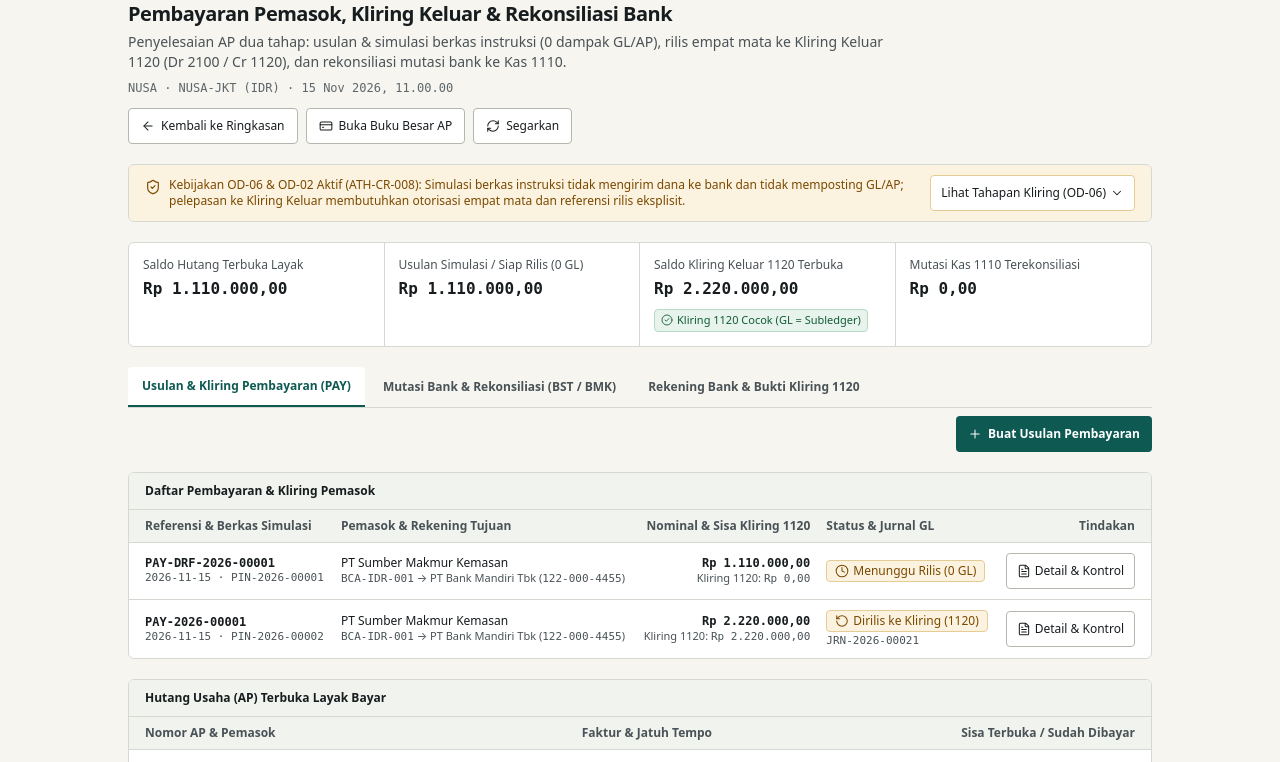
Test: S11 Payments, Outbound Clearing & Bank Reconciliation UI › renders clearing KPIs with 1120 reconciled proof and enforces OD-02 self-release SoD notice
Expected: the heading reads "Pembayaran Pemasok, Kliring Keluar & Rekonsiliasi Bank", [128,0,672,27]
Expected: the text "Kliring 1120 Cocok (GL = Subledger)" is shown, [677,312,861,328]
// Expand OD-06 stages drawer
Click the button "Lihat Tahapan Kliring (OD-06)": (1033, 193) [930,175,1135,211]
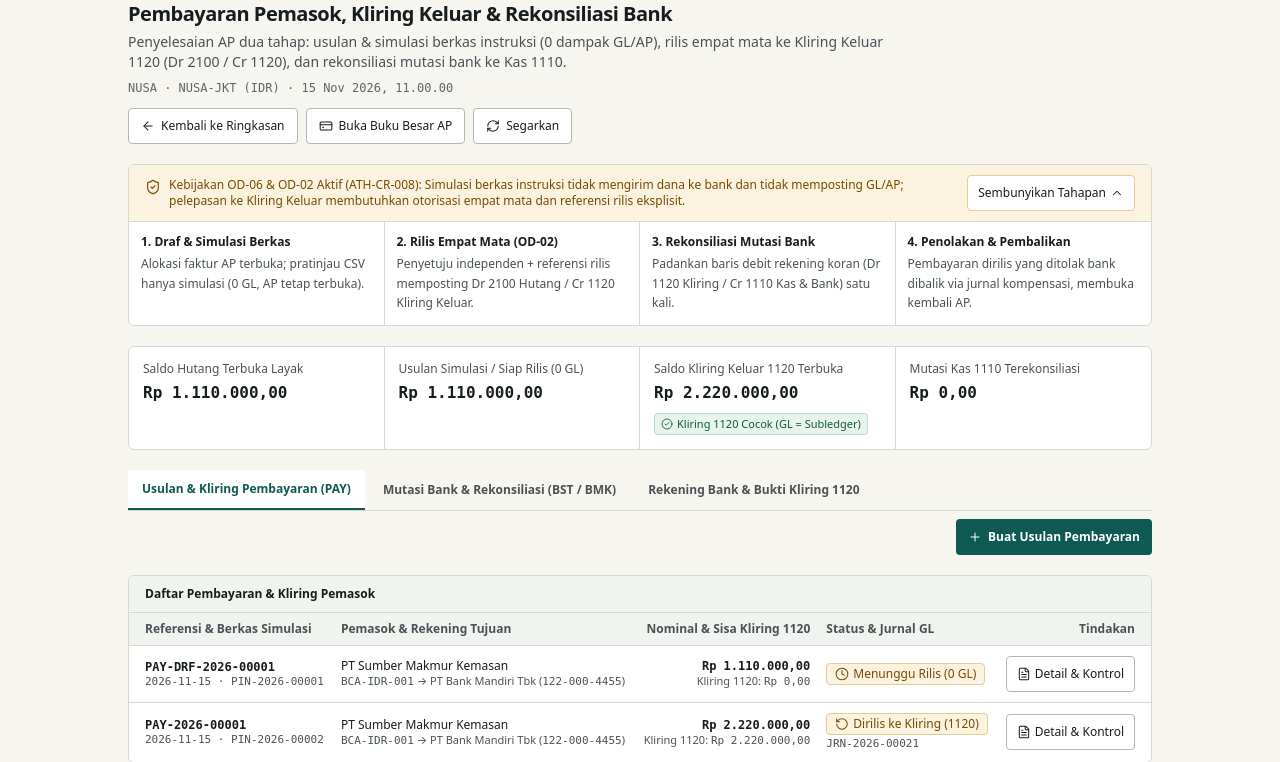
Result: the text "1. Draf & Simulasi Berkas" is shown at [141,233,290,250]
Click the button with test id "open-payment-PAY-DRF-2026-00001": (1070, 674) [1006,656,1135,692]
(page scrolled)
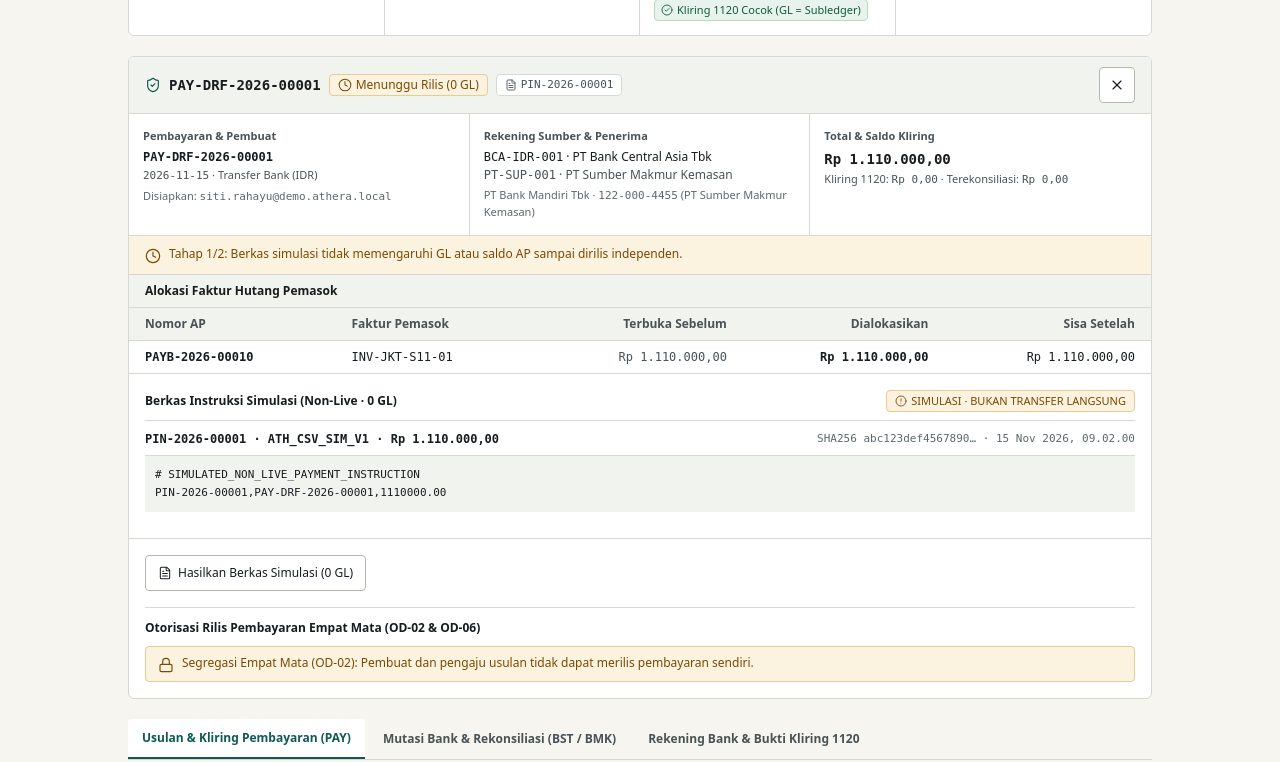
Result: the message with test id "pay-sod-notice" is shown at [145,646,1135,682]
Result: the text "SIMULASI · BUKAN TRANSFER LANGSUNG" is shown at [911,392,1126,409]
